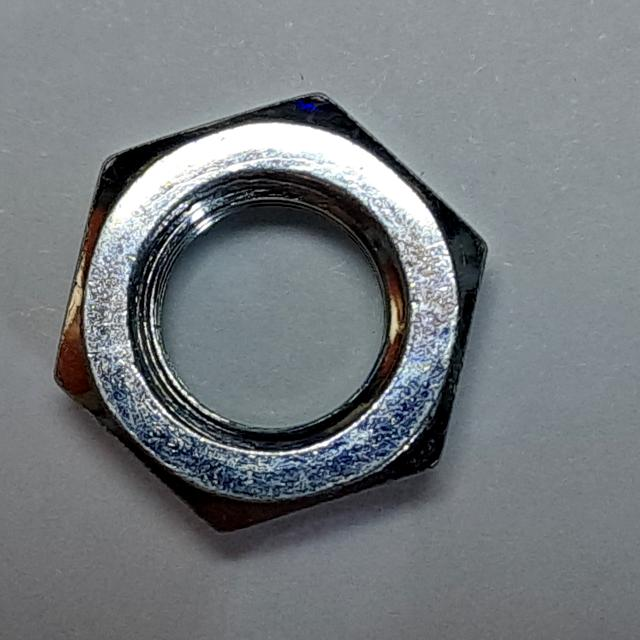Excellent: (32, 74, 499, 553)
